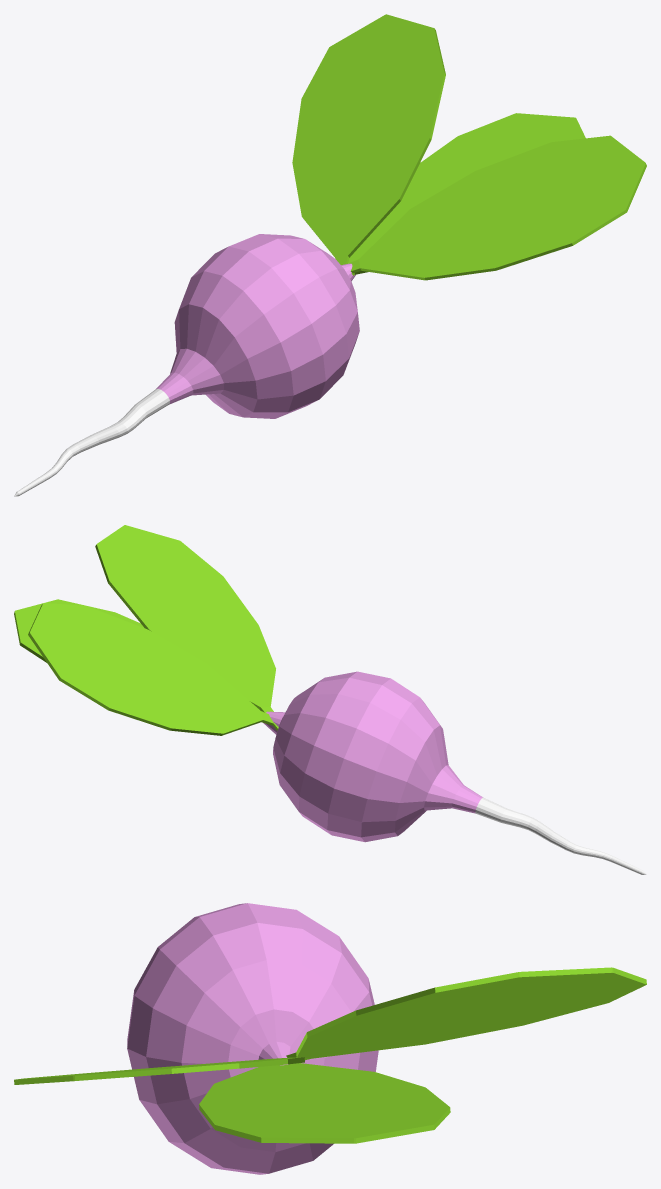
The picture shows the model from 3 angles, top to bottom: view 1: azimuth 30°, elevation 25°; view 2: azimuth 150°, elevation 25°; view 3: azimuth 270°, elevation 25°; orthographic projection. The views are drawn at different scales.
Parts seen in each view (by area): view 1: Sphere001, Box003, Box002, Box001; view 2: Sphere001, Box003, Box002, Box001; view 3: Sphere001, Box001, Box003, Box002.
Boxes of the visible parts, box(x1,y1,x2,y2) form: Sphere001: box(14, 234, 359, 496); Box003: box(292, 14, 445, 264); Box002: box(347, 135, 646, 280); Box001: box(348, 113, 585, 275); Sphere001: box(263, 671, 646, 874); Box003: box(28, 603, 273, 735); Box002: box(95, 525, 278, 730); Box001: box(14, 599, 143, 662); Sphere001: box(127, 903, 378, 1174); Box001: box(199, 1063, 450, 1143); Box003: box(286, 967, 646, 1060); Box002: box(14, 1057, 304, 1084).
Bounding box in the file's own units: 610542 × 237391 × 360872.
